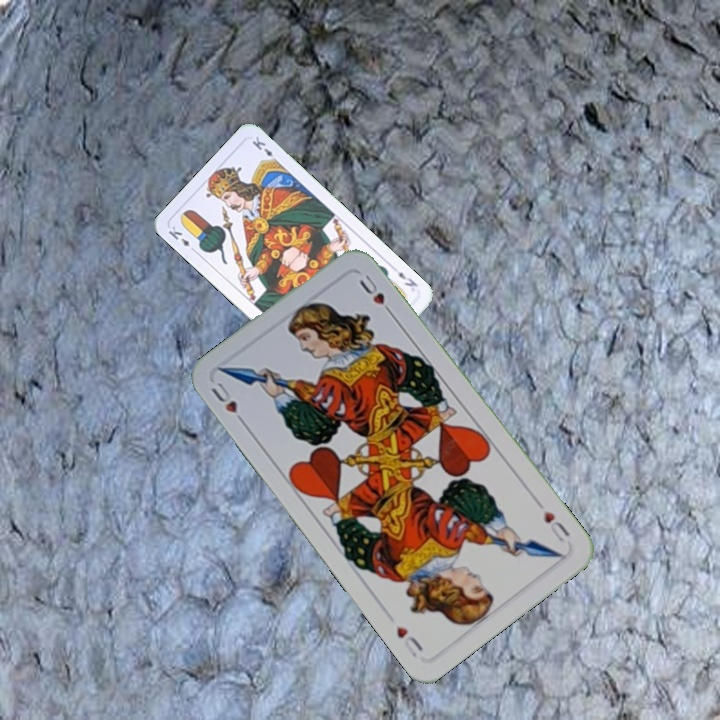EK: (164, 222, 199, 255), (394, 267, 421, 289)
HU: (207, 378, 250, 429), (539, 506, 573, 545)
